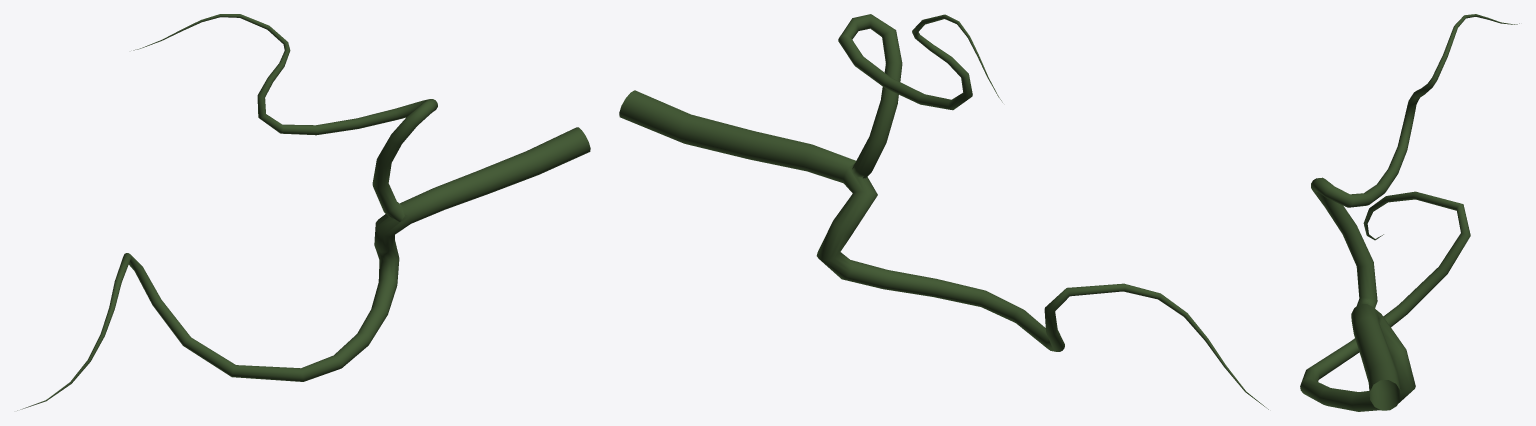
The model's file is corazón - copia2.fbx.
3 views of the same model, side by side, from view 1: azimuth 30°, elevation 25°; view 2: azimuth 150°, elevation 25°; view 3: azimuth 270°, elevation 25° (orthographic). The views are drawn at different scales.
Visible parts, largest first — view 1: BezierCurve; view 2: BezierCurve; view 3: BezierCurve.
Part boxes in pixels (bbox=[...]): BezierCurve: bbox=[17, 14, 590, 410]; BezierCurve: bbox=[619, 14, 1268, 409]; BezierCurve: bbox=[1300, 14, 1519, 411].
Size of the model in its own units: 704 by 377 by 211.
